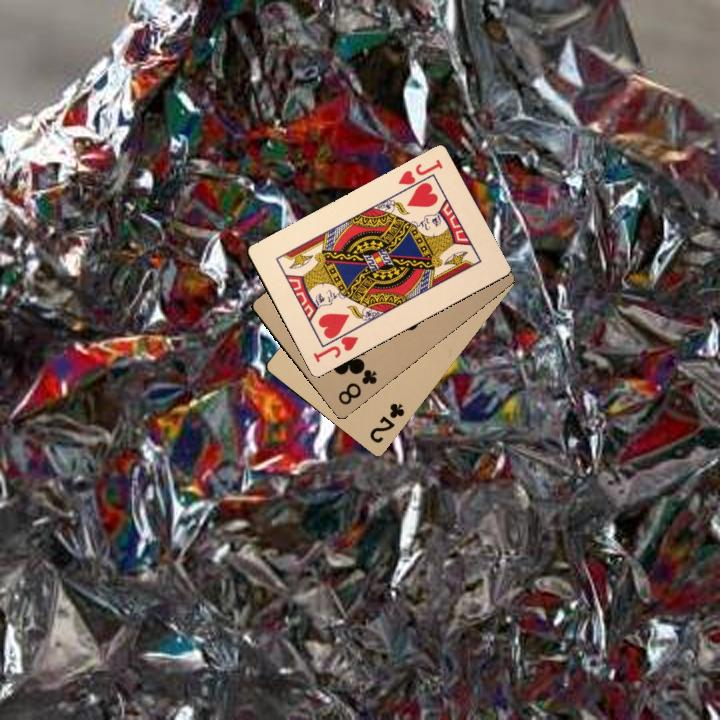2c: (365, 399, 407, 446)
8c: (334, 365, 380, 408)
Jh: (309, 324, 361, 365), (394, 155, 445, 187)
